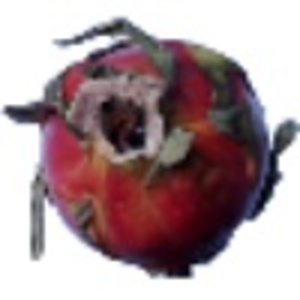pitaia: (1, 14, 300, 280)
